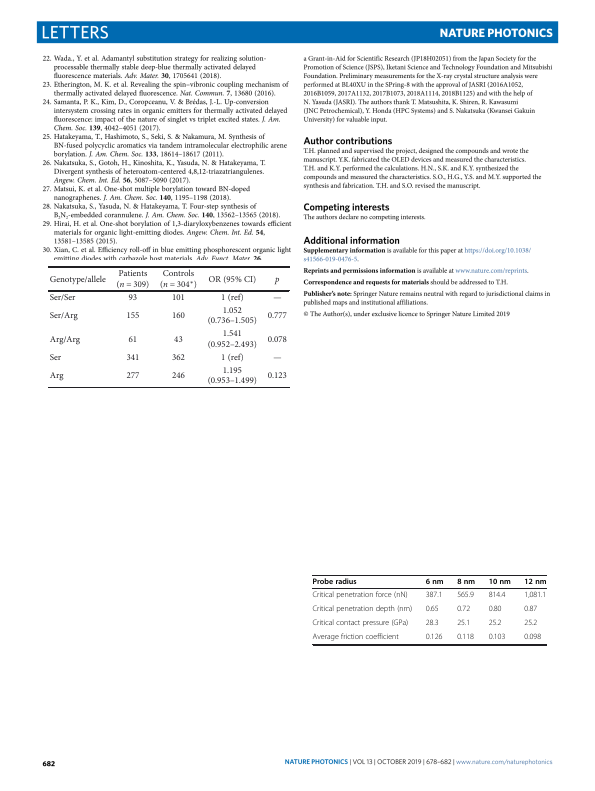borderless: (48, 265, 290, 388), (311, 574, 546, 644)
cell: (206, 306, 257, 327), (206, 329, 257, 350), (206, 366, 257, 387), (312, 605, 413, 614), (312, 619, 409, 628), (312, 591, 408, 600), (159, 269, 198, 290), (312, 633, 400, 642), (115, 269, 150, 290), (48, 274, 106, 285), (207, 274, 257, 285), (312, 578, 358, 586), (48, 334, 81, 345), (48, 311, 78, 321), (48, 293, 76, 303), (220, 293, 244, 303), (220, 353, 244, 363), (266, 334, 287, 345), (266, 371, 287, 382), (523, 591, 547, 600), (266, 311, 287, 321), (488, 578, 512, 586), (523, 578, 547, 586), (48, 371, 64, 382), (456, 591, 475, 600), (456, 633, 475, 642), (523, 633, 542, 642), (125, 371, 140, 382), (171, 371, 186, 382), (425, 591, 443, 600), (488, 591, 506, 600), (425, 633, 443, 642), (488, 633, 506, 642), (456, 578, 476, 586), (425, 578, 444, 586), (171, 293, 186, 303), (125, 311, 140, 321), (171, 311, 186, 321), (125, 353, 140, 363), (171, 353, 186, 363), (48, 353, 62, 363), (456, 605, 471, 614), (523, 605, 538, 614), (456, 619, 471, 628), (523, 619, 538, 628), (425, 605, 439, 614), (488, 605, 502, 614), (425, 619, 439, 628), (488, 619, 502, 628), (127, 334, 138, 345), (127, 293, 138, 303), (173, 334, 183, 345), (274, 276, 280, 285), (272, 297, 282, 301), (272, 357, 282, 361)
